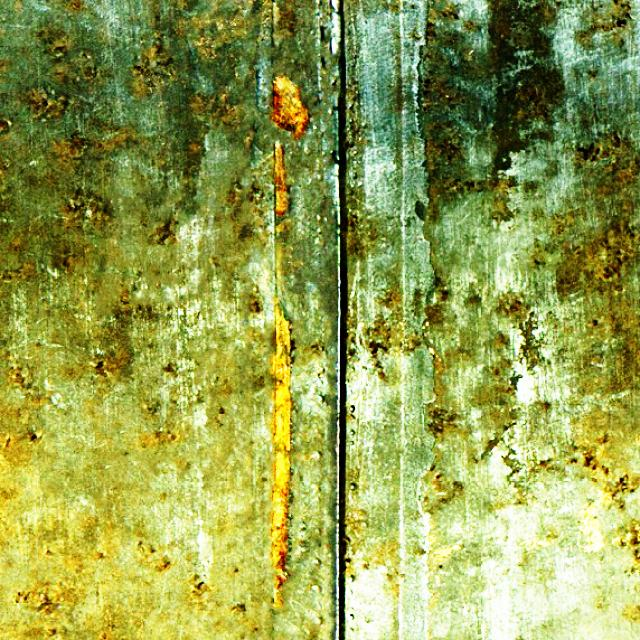Corrosion: (272, 298, 293, 606), (272, 76, 309, 136), (274, 140, 289, 214)
